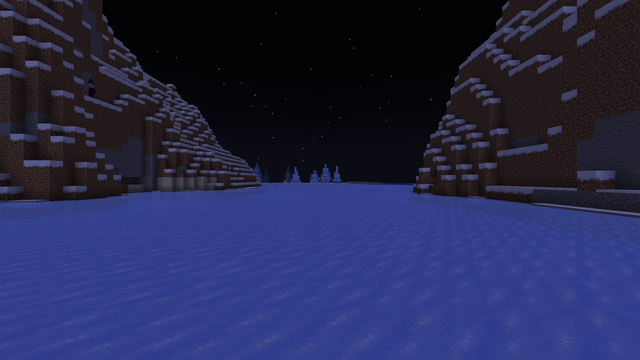sorcieres: (88, 82, 96, 97)
